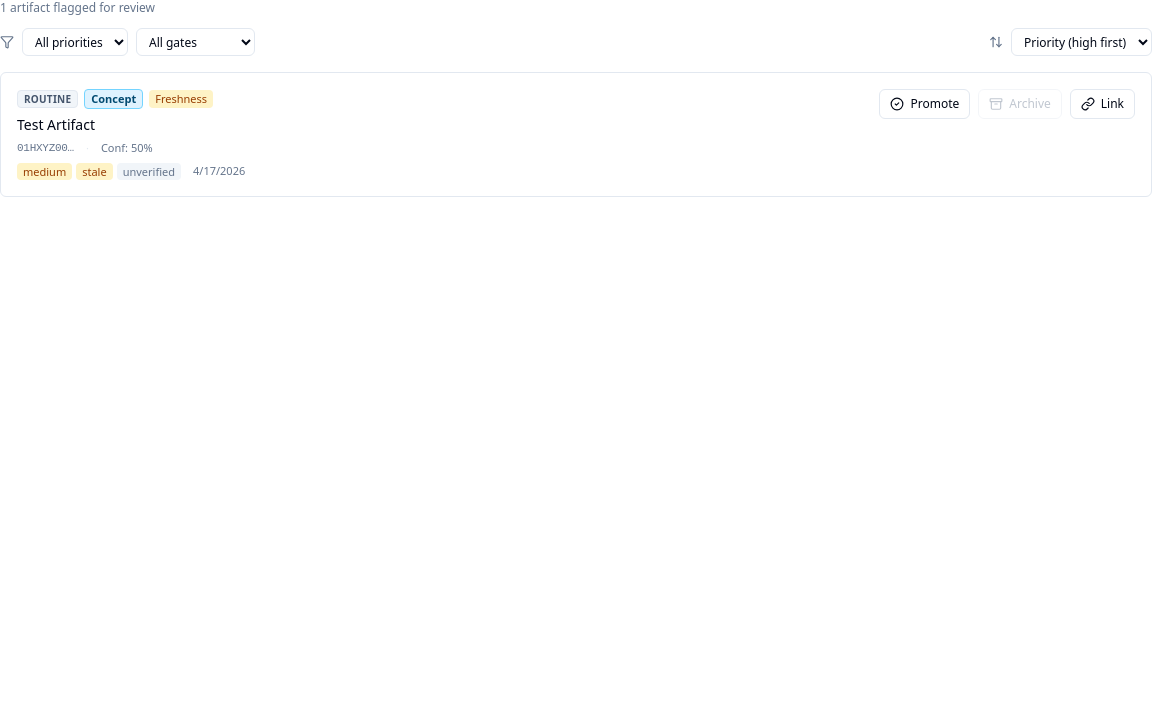
ReviewQueue — Link action: dialog › shows success toast and closes dialog on link success
Click the button "Link".
click(1102, 104)  # box [1070,89,1135,119]
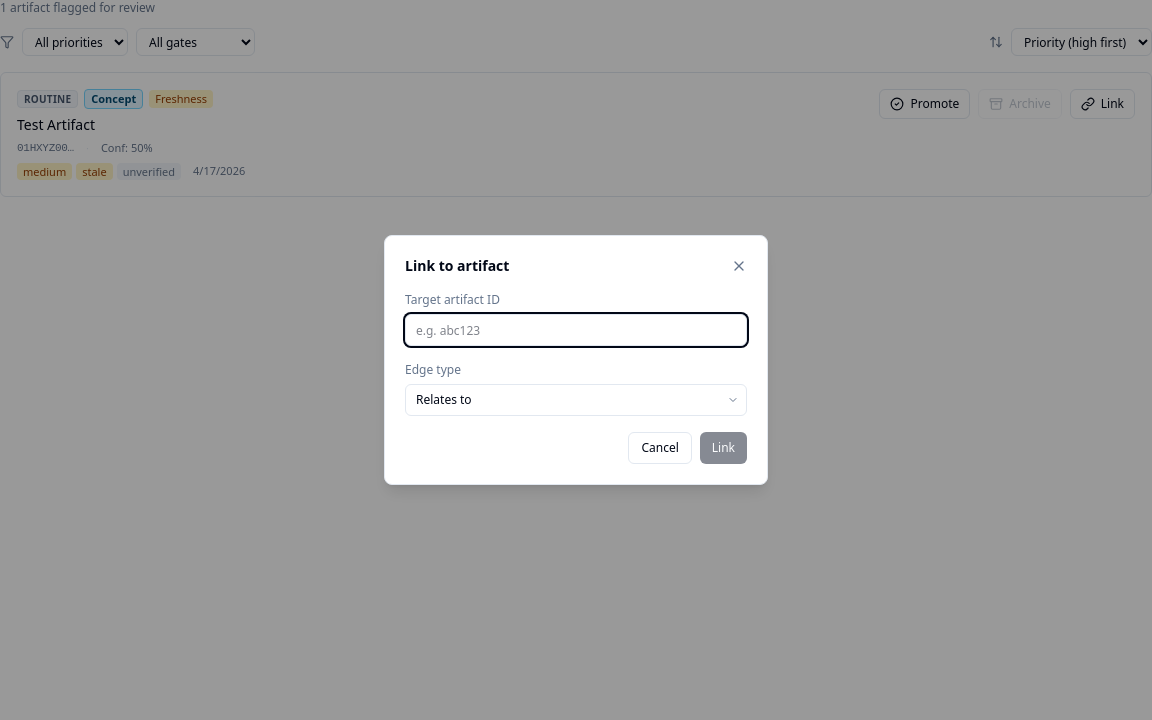
Now the dialog is shown
Type "target-001" into the field labelled "Target artifact ID".
click(576, 330); type("target-001")  # box [405,314,747,346]
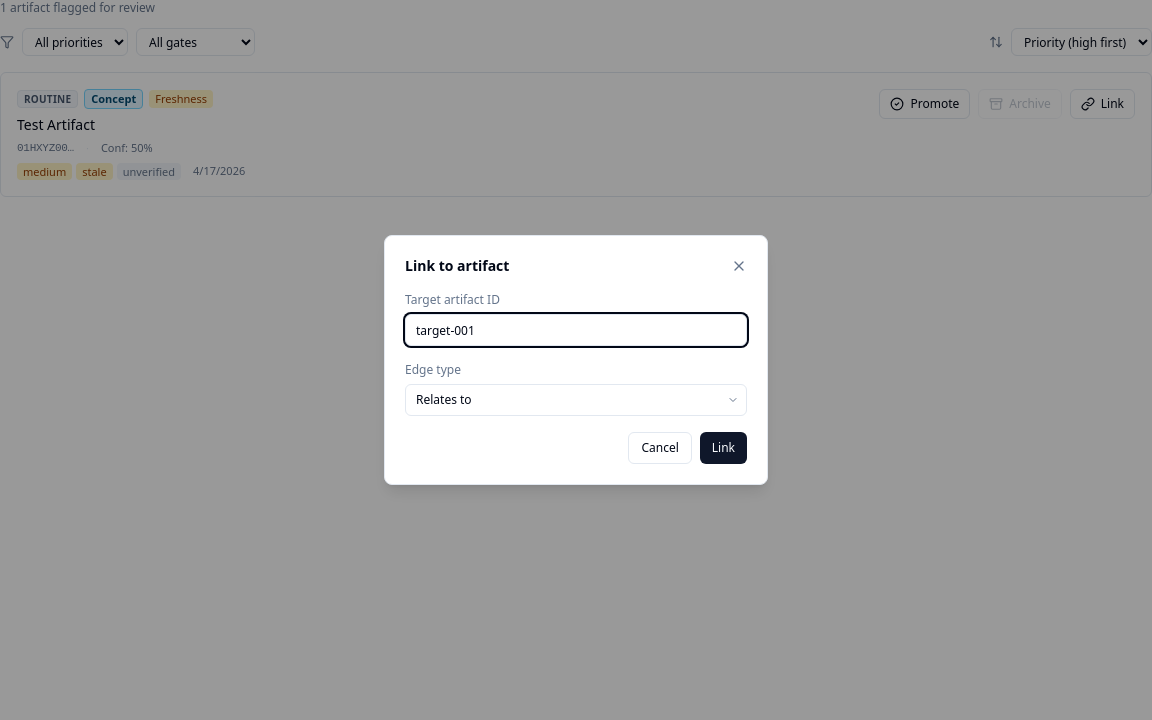
Click the button "Link".
click(723, 448)  # box [700,432,747,464]
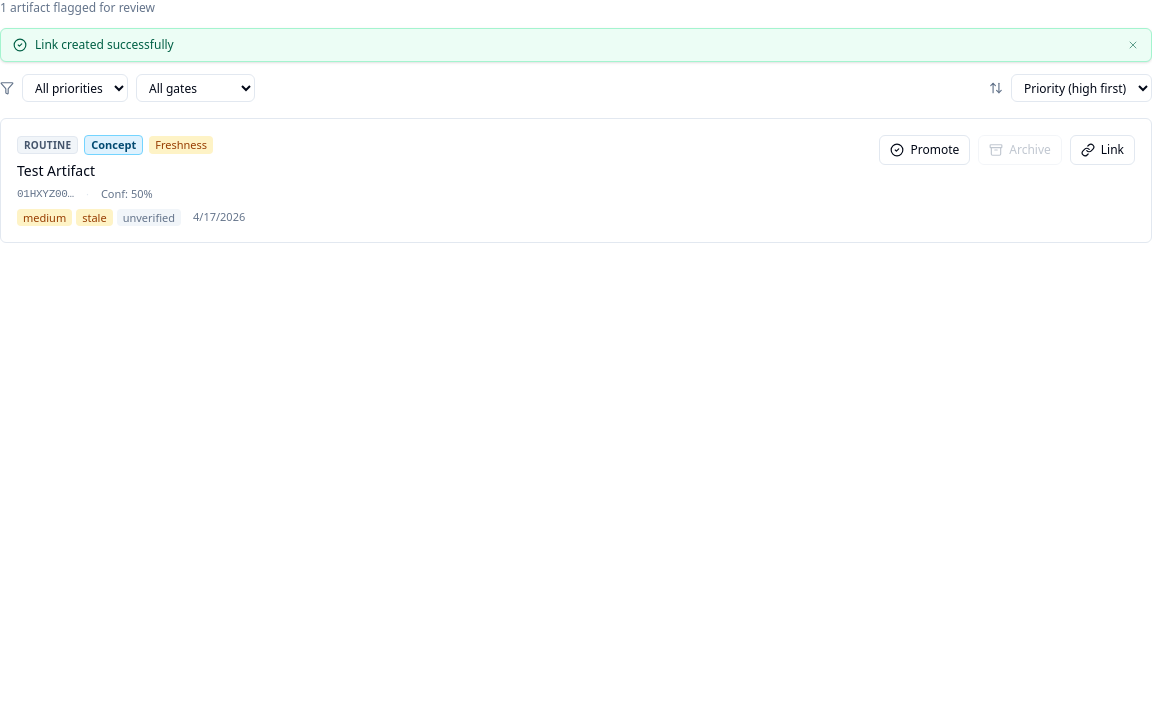
Now the text "Link created successfully" is shown, box [35,36,174,53]
Now the dialog is gone
